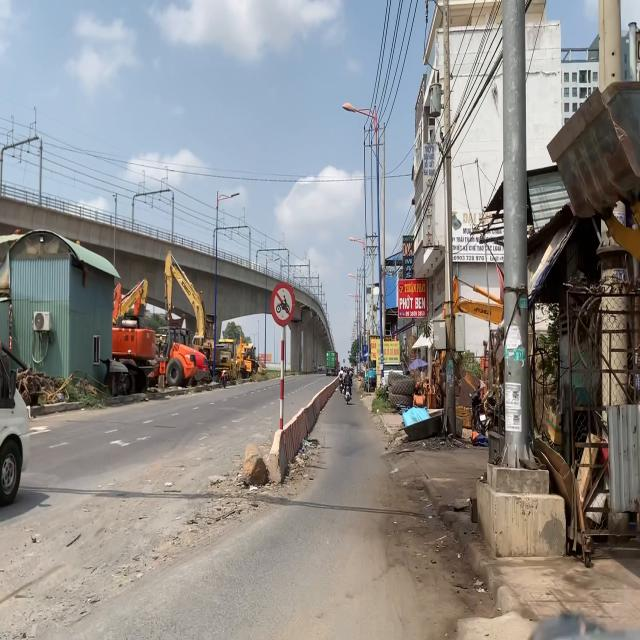Cam con lai: (270, 282, 296, 326)
